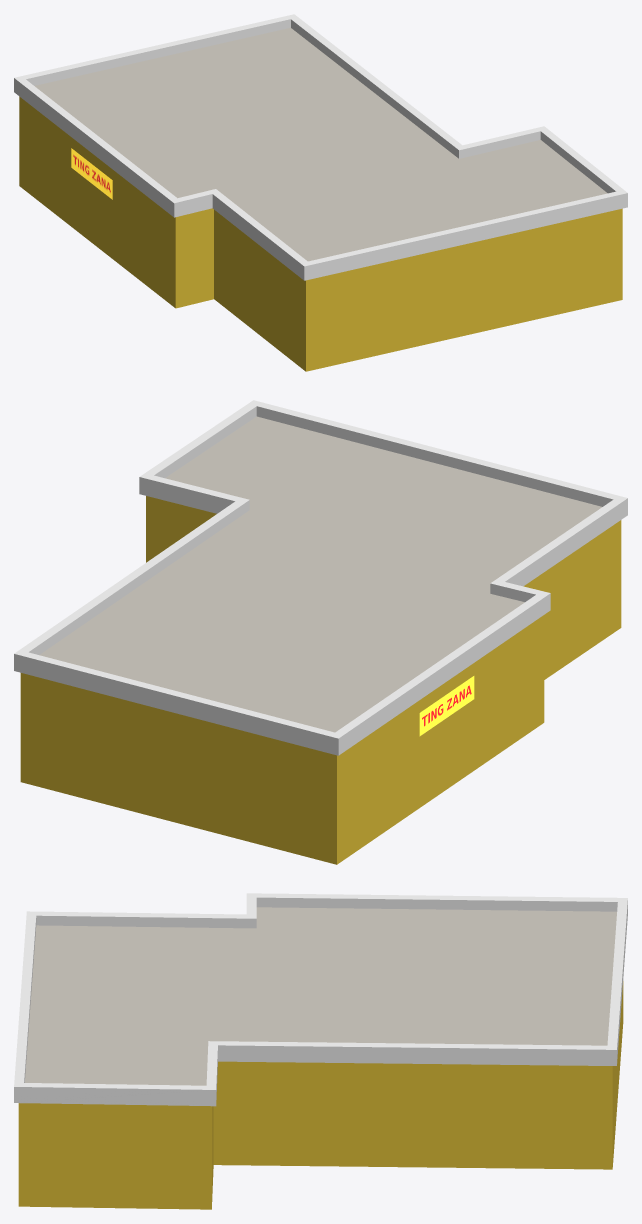
Rendered from tingzan.glb.
3 renders of one model, top to bottom at view 1: azimuth 30°, elevation 25°; view 2: azimuth 150°, elevation 25°; view 3: azimuth 270°, elevation 25°, orthographic. The views are drawn at different scales.
Visible parts, largest first — view 1: tingzan_lod0; view 2: tingzan_lod0; view 3: tingzan_lod0.
Boxes of the visible parts, x1,y1,x2,y2 form: tingzan_lod0: [14, 14, 627, 371]; tingzan_lod0: [14, 400, 627, 864]; tingzan_lod0: [14, 893, 627, 1209].
Size of what is drawn, in the model's own units: 26.02 by 7.5 by 34.32.
Materials: 5 (2 with a texture image).
